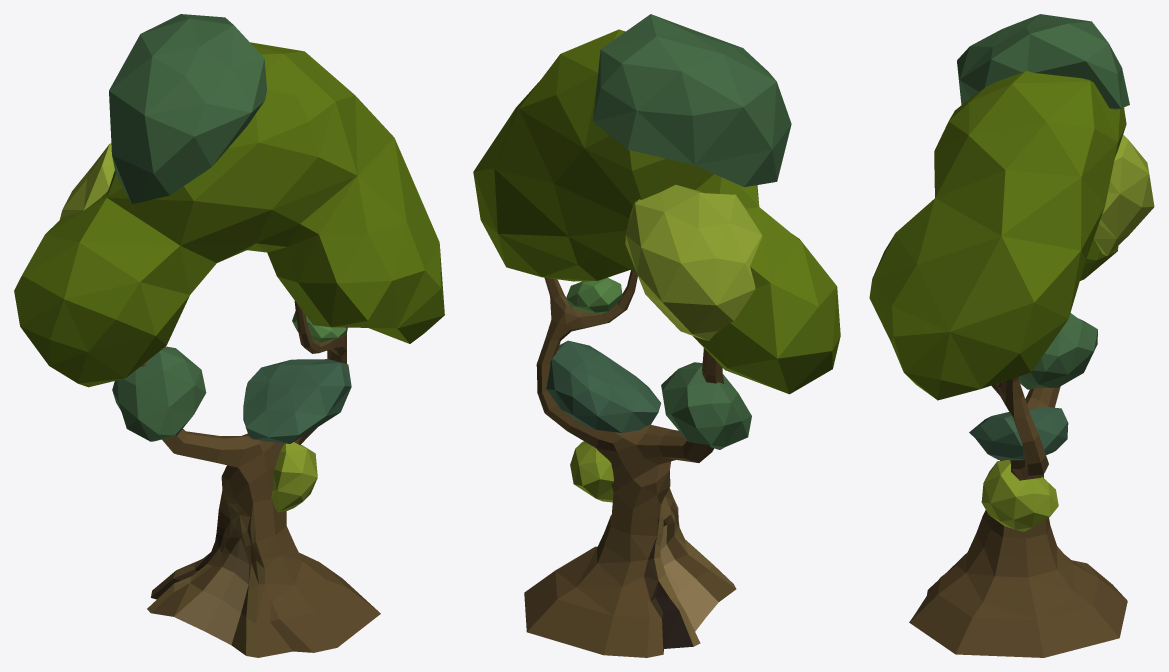
The model's file is meadow-tree-b.glb.
3 views of the same model, side by side, from view 1: azimuth 30°, elevation 25°; view 2: azimuth 150°, elevation 25°; view 3: azimuth 270°, elevation 25° (orthographic). The views are drawn at different scales.
Parts seen in each view (by area): view 1: EM_Tree2a; view 2: EM_Tree2a; view 3: EM_Tree2a.
Part boxes in pixels (x1,y1,x2,y2): EM_Tree2a: (14, 14, 444, 657); EM_Tree2a: (473, 14, 840, 657); EM_Tree2a: (869, 14, 1154, 657).
Size of the model in its own units: 6.6 by 10.14 by 4.58.
1 material, 1 textured.
